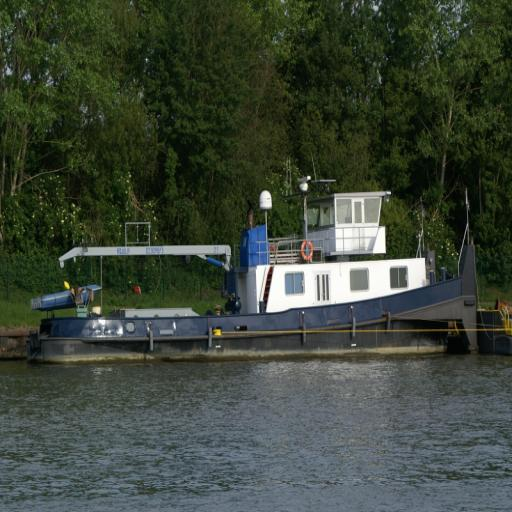tugboat: (28, 154, 483, 383)
